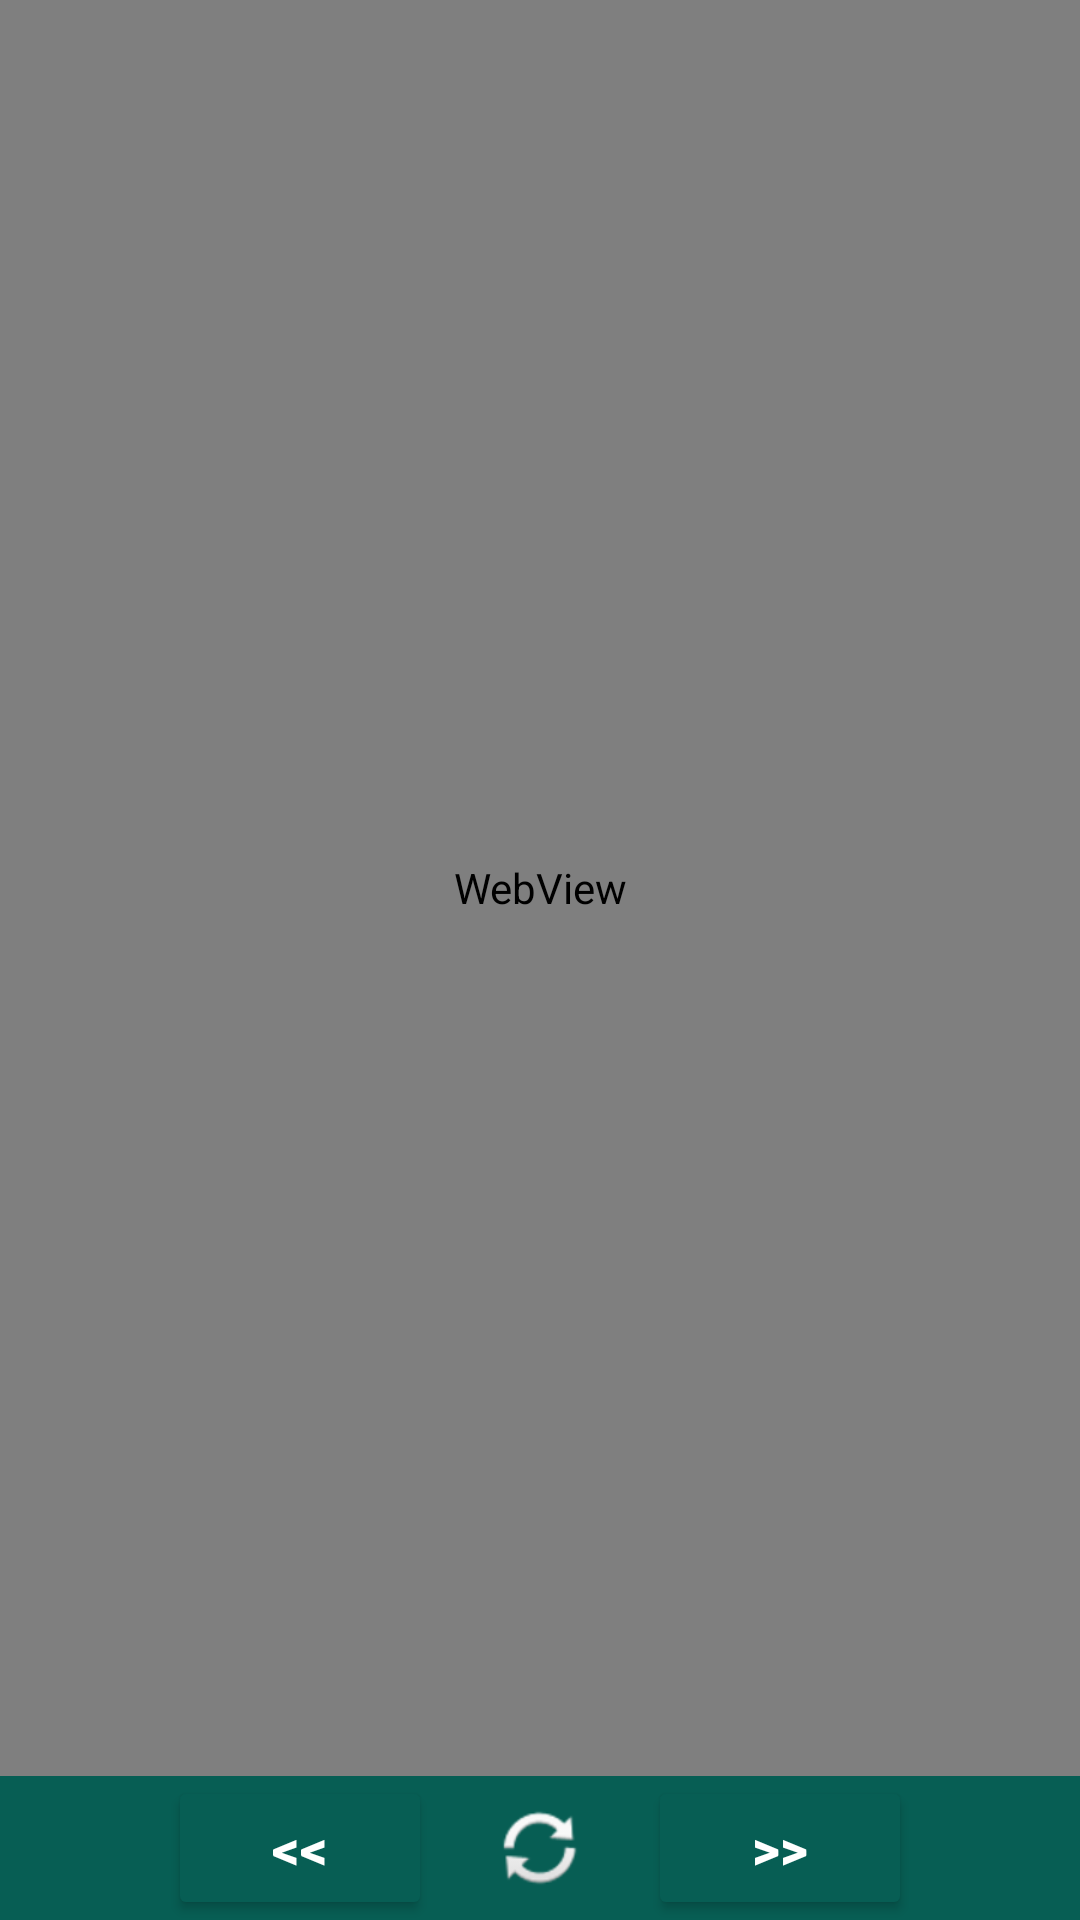

Icons on this 1080 x 1920 Android screen, each with the point to tap as (x,y):
popup sync: (539,1848)
